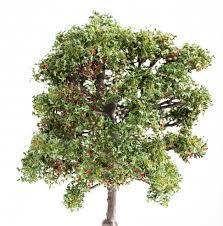tree: (16, 9, 216, 226)
